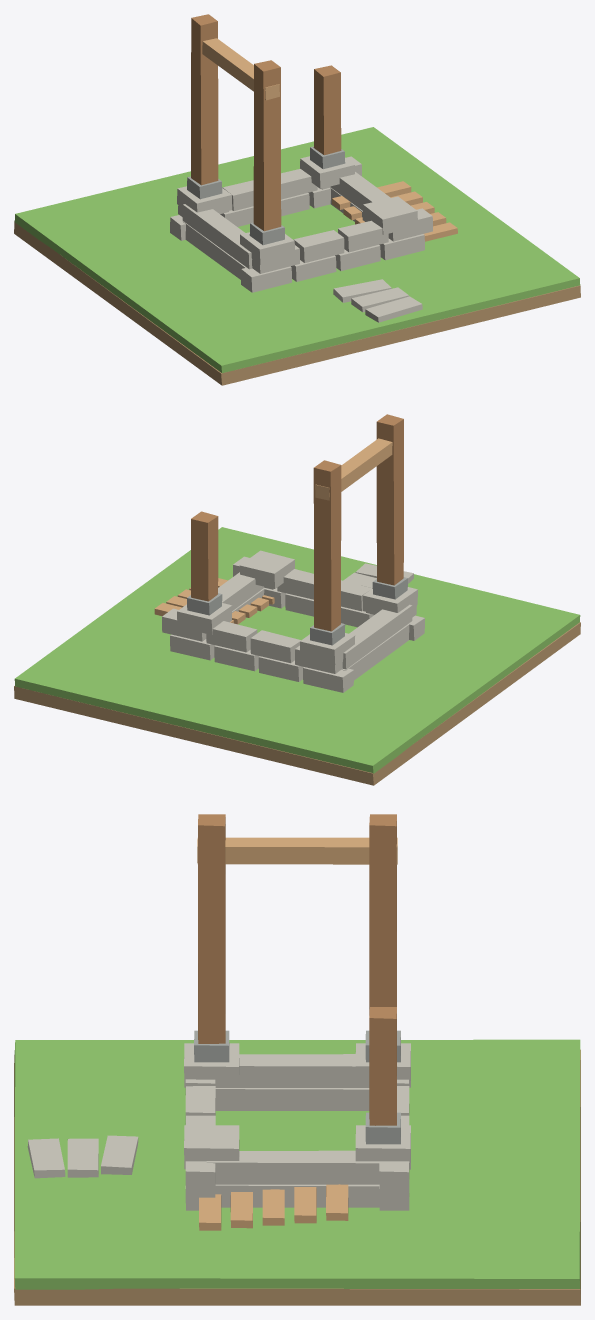
The model's file is tower_l02_construction_LOD2.glb.
3 renders of one model, top to bottom at view 1: azimuth 30°, elevation 25°; view 2: azimuth 150°, elevation 25°; view 3: azimuth 270°, elevation 25°, orthographic. The views are drawn at different scales.
Parts seen in each view (by area): view 1: tower_l02_grass_tile_tower_l02_construction_LOD2_tmp, tower_l02_earth_tile_tower_l02_construction_LOD2_tmp, post_-0.61_-0.54_tower_l02_construction_LOD2_tmp, post_-0.61_0.54_tower_l02_construction_LOD2_tmp, post_0.61_0.54_tower_l02_construction_LOD2_tmp, stone_return_1_-0.72_tower_l02_construction_LOD2_tmp, temporary_crossbar_tower_l02_construction_LOD2_tmp, foot_0.61_-0.54_tower_l02_construction_LOD2_tmp, stone_course_1_-1_1_tower_l02_construction_LOD2_tmp, stone_return_1_0.72_tower_l02_construction_LOD2_tmp, stone_course_1_-1_2_tower_l02_construction_LOD2_tmp, foot_-0.61_-0.54_tower_l02_construction_LOD2_tmp (+19 smaller); view 2: tower_l02_grass_tile_tower_l02_construction_LOD2_tmp, tower_l02_earth_tile_tower_l02_construction_LOD2_tmp, post_-0.61_0.54_tower_l02_construction_LOD2_tmp, post_-0.61_-0.54_tower_l02_construction_LOD2_tmp, post_0.61_0.54_tower_l02_construction_LOD2_tmp, stone_return_1_-0.72_tower_l02_construction_LOD2_tmp, temporary_crossbar_tower_l02_construction_LOD2_tmp, foot_0.61_-0.54_tower_l02_construction_LOD2_tmp, stone_course_1_1_1_tower_l02_construction_LOD2_tmp, stone_course_1_1_2_tower_l02_construction_LOD2_tmp, foot_-0.61_0.54_tower_l02_construction_LOD2_tmp, foot_0.61_0.54_tower_l02_construction_LOD2_tmp (+15 smaller); view 3: tower_l02_grass_tile_tower_l02_construction_LOD2_tmp, tower_l02_earth_tile_tower_l02_construction_LOD2_tmp, post_-0.61_-0.54_tower_l02_construction_LOD2_tmp, post_-0.61_0.54_tower_l02_construction_LOD2_tmp, stone_return_1_0.72_tower_l02_construction_LOD2_tmp, temporary_crossbar_tower_l02_construction_LOD2_tmp, stone_return_1_-0.72_tower_l02_construction_LOD2_tmp, stone_return_0_-0.72_tower_l02_construction_LOD2_tmp, post_0.61_0.54_tower_l02_construction_LOD2_tmp, stone_return_0_0.72_tower_l02_construction_LOD2_tmp, foot_0.61_-0.54_tower_l02_construction_LOD2_tmp, foot_-0.61_-0.54_tower_l02_construction_LOD2_tmp (+15 smaller).
Part boxes in pixels (x1=…): tower_l02_grass_tile_tower_l02_construction_LOD2_tmp: x1=14, y1=127, x2=580, y2=373; tower_l02_earth_tile_tower_l02_construction_LOD2_tmp: x1=14, y1=221, x2=580, y2=385; post_-0.61_-0.54_tower_l02_construction_LOD2_tmp: x1=253, y1=60, x2=281, y2=231; post_-0.61_0.54_tower_l02_construction_LOD2_tmp: x1=191, y1=14, x2=218, y2=185; post_0.61_0.54_tower_l02_construction_LOD2_tmp: x1=313, y1=65, x2=341, y2=155; stone_return_1_-0.72_tower_l02_construction_LOD2_tmp: x1=182, y1=204, x2=252, y2=269; temporary_crossbar_tower_l02_construction_LOD2_tmp: x1=202, y1=38, x2=279, y2=100; foot_0.61_-0.54_tower_l02_construction_LOD2_tmp: x1=362, y1=196, x2=417, y2=234; stone_course_1_-1_1_tower_l02_construction_LOD2_tmp: x1=293, y1=230, x2=344, y2=262; stone_return_1_0.72_tower_l02_construction_LOD2_tmp: x1=330, y1=172, x2=390, y2=210; stone_course_1_-1_2_tower_l02_construction_LOD2_tmp: x1=338, y1=220, x2=388, y2=252; foot_-0.61_-0.54_tower_l02_construction_LOD2_tmp: x1=240, y1=232, x2=294, y2=264; tower_l02_grass_tile_tower_l02_construction_LOD2_tmp: x1=14, y1=527, x2=580, y2=773; tower_l02_earth_tile_tower_l02_construction_LOD2_tmp: x1=14, y1=622, x2=580, y2=785; post_-0.61_0.54_tower_l02_construction_LOD2_tmp: x1=313, y1=460, x2=341, y2=631; post_-0.61_-0.54_tower_l02_construction_LOD2_tmp: x1=376, y1=414, x2=403, y2=585; post_0.61_0.54_tower_l02_construction_LOD2_tmp: x1=191, y1=511, x2=218, y2=601; stone_return_1_-0.72_tower_l02_construction_LOD2_tmp: x1=342, y1=604, x2=412, y2=669; temporary_crossbar_tower_l02_construction_LOD2_tmp: x1=315, y1=438, x2=392, y2=500; foot_0.61_-0.54_tower_l02_construction_LOD2_tmp: x1=239, y1=550, x2=294, y2=588; stone_course_1_1_1_tower_l02_construction_LOD2_tmp: x1=250, y1=630, x2=300, y2=663; stone_course_1_1_2_tower_l02_construction_LOD2_tmp: x1=206, y1=621, x2=257, y2=652; foot_-0.61_0.54_tower_l02_construction_LOD2_tmp: x1=300, y1=633, x2=355, y2=664; foot_0.61_0.54_tower_l02_construction_LOD2_tmp: x1=177, y1=603, x2=232, y2=634; tower_l02_grass_tile_tower_l02_construction_LOD2_tmp: x1=14, y1=1039, x2=580, y2=1289; tower_l02_earth_tile_tower_l02_construction_LOD2_tmp: x1=14, y1=1049, x2=580, y2=1305; post_-0.61_-0.54_tower_l02_construction_LOD2_tmp: x1=198, y1=814, x2=225, y2=1043; post_-0.61_0.54_tower_l02_construction_LOD2_tmp: x1=369, y1=814, x2=396, y2=1015; stone_return_1_0.72_tower_l02_construction_LOD2_tmp: x1=206, y1=1150, x2=386, y2=1184; temporary_crossbar_tower_l02_construction_LOD2_tmp: x1=197, y1=837, x2=397, y2=864; stone_return_1_-0.72_tower_l02_construction_LOD2_tmp: x1=216, y1=1054, x2=368, y2=1087; stone_return_0_-0.72_tower_l02_construction_LOD2_tmp: x1=215, y1=1088, x2=369, y2=1110; post_0.61_0.54_tower_l02_construction_LOD2_tmp: x1=369, y1=1007, x2=396, y2=1125; stone_return_0_0.72_tower_l02_construction_LOD2_tmp: x1=215, y1=1184, x2=379, y2=1207; foot_0.61_-0.54_tower_l02_construction_LOD2_tmp: x1=184, y1=1125, x2=239, y2=1169; foot_-0.61_-0.54_tower_l02_construction_LOD2_tmp: x1=184, y1=1043, x2=239, y2=1087.
Bounding box in the file's own units: 3.57 × 2.26 × 3.57.
